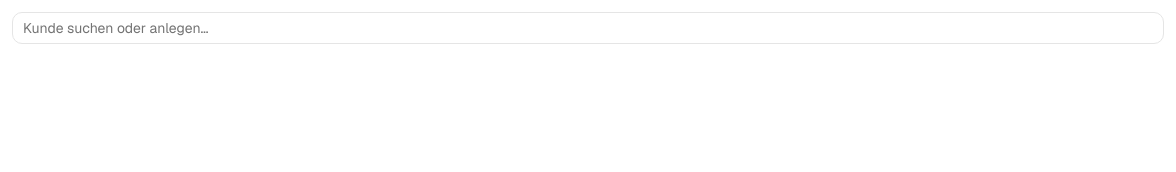
Test: KundenSelect › filtert beim Tippen und heftet Kunde anlegen als letzten Eintrag an
Type "Kunde 7" into the dropdown at (588, 28), box [12, 12, 1164, 44]
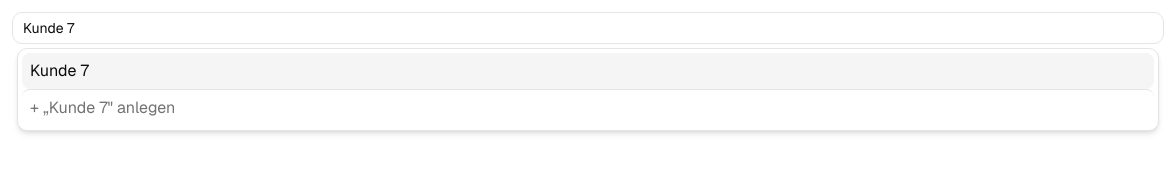
Expected: the number of options is 2, [22, 53, 1154, 89]; [22, 89, 1154, 126]
Expected: the option "Kunde 7" is shown, [22, 53, 1154, 89]
Expected: the option "+ „Kunde 7\" anlegen" is shown, [22, 89, 1154, 126]
